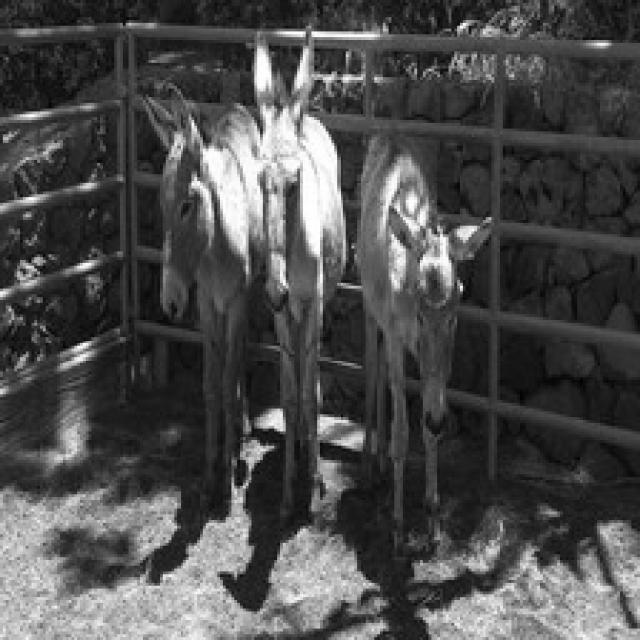Donkey: (352, 126, 494, 554), (137, 80, 263, 509), (248, 23, 348, 520)
